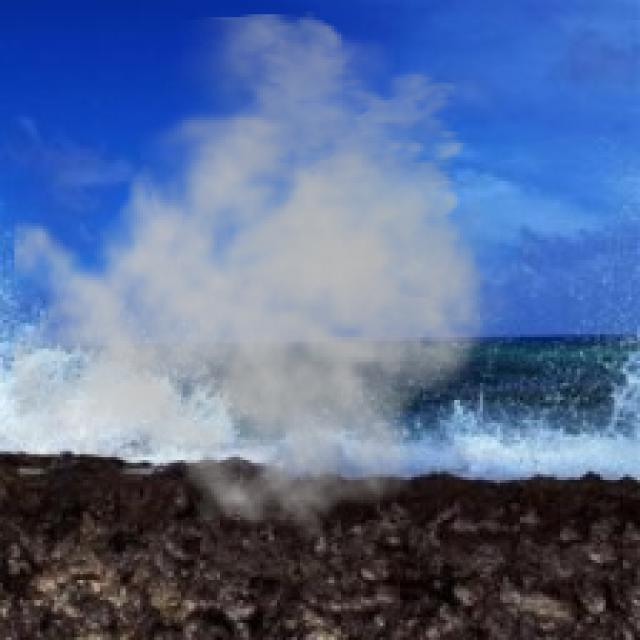smoke: (14, 11, 534, 546)
